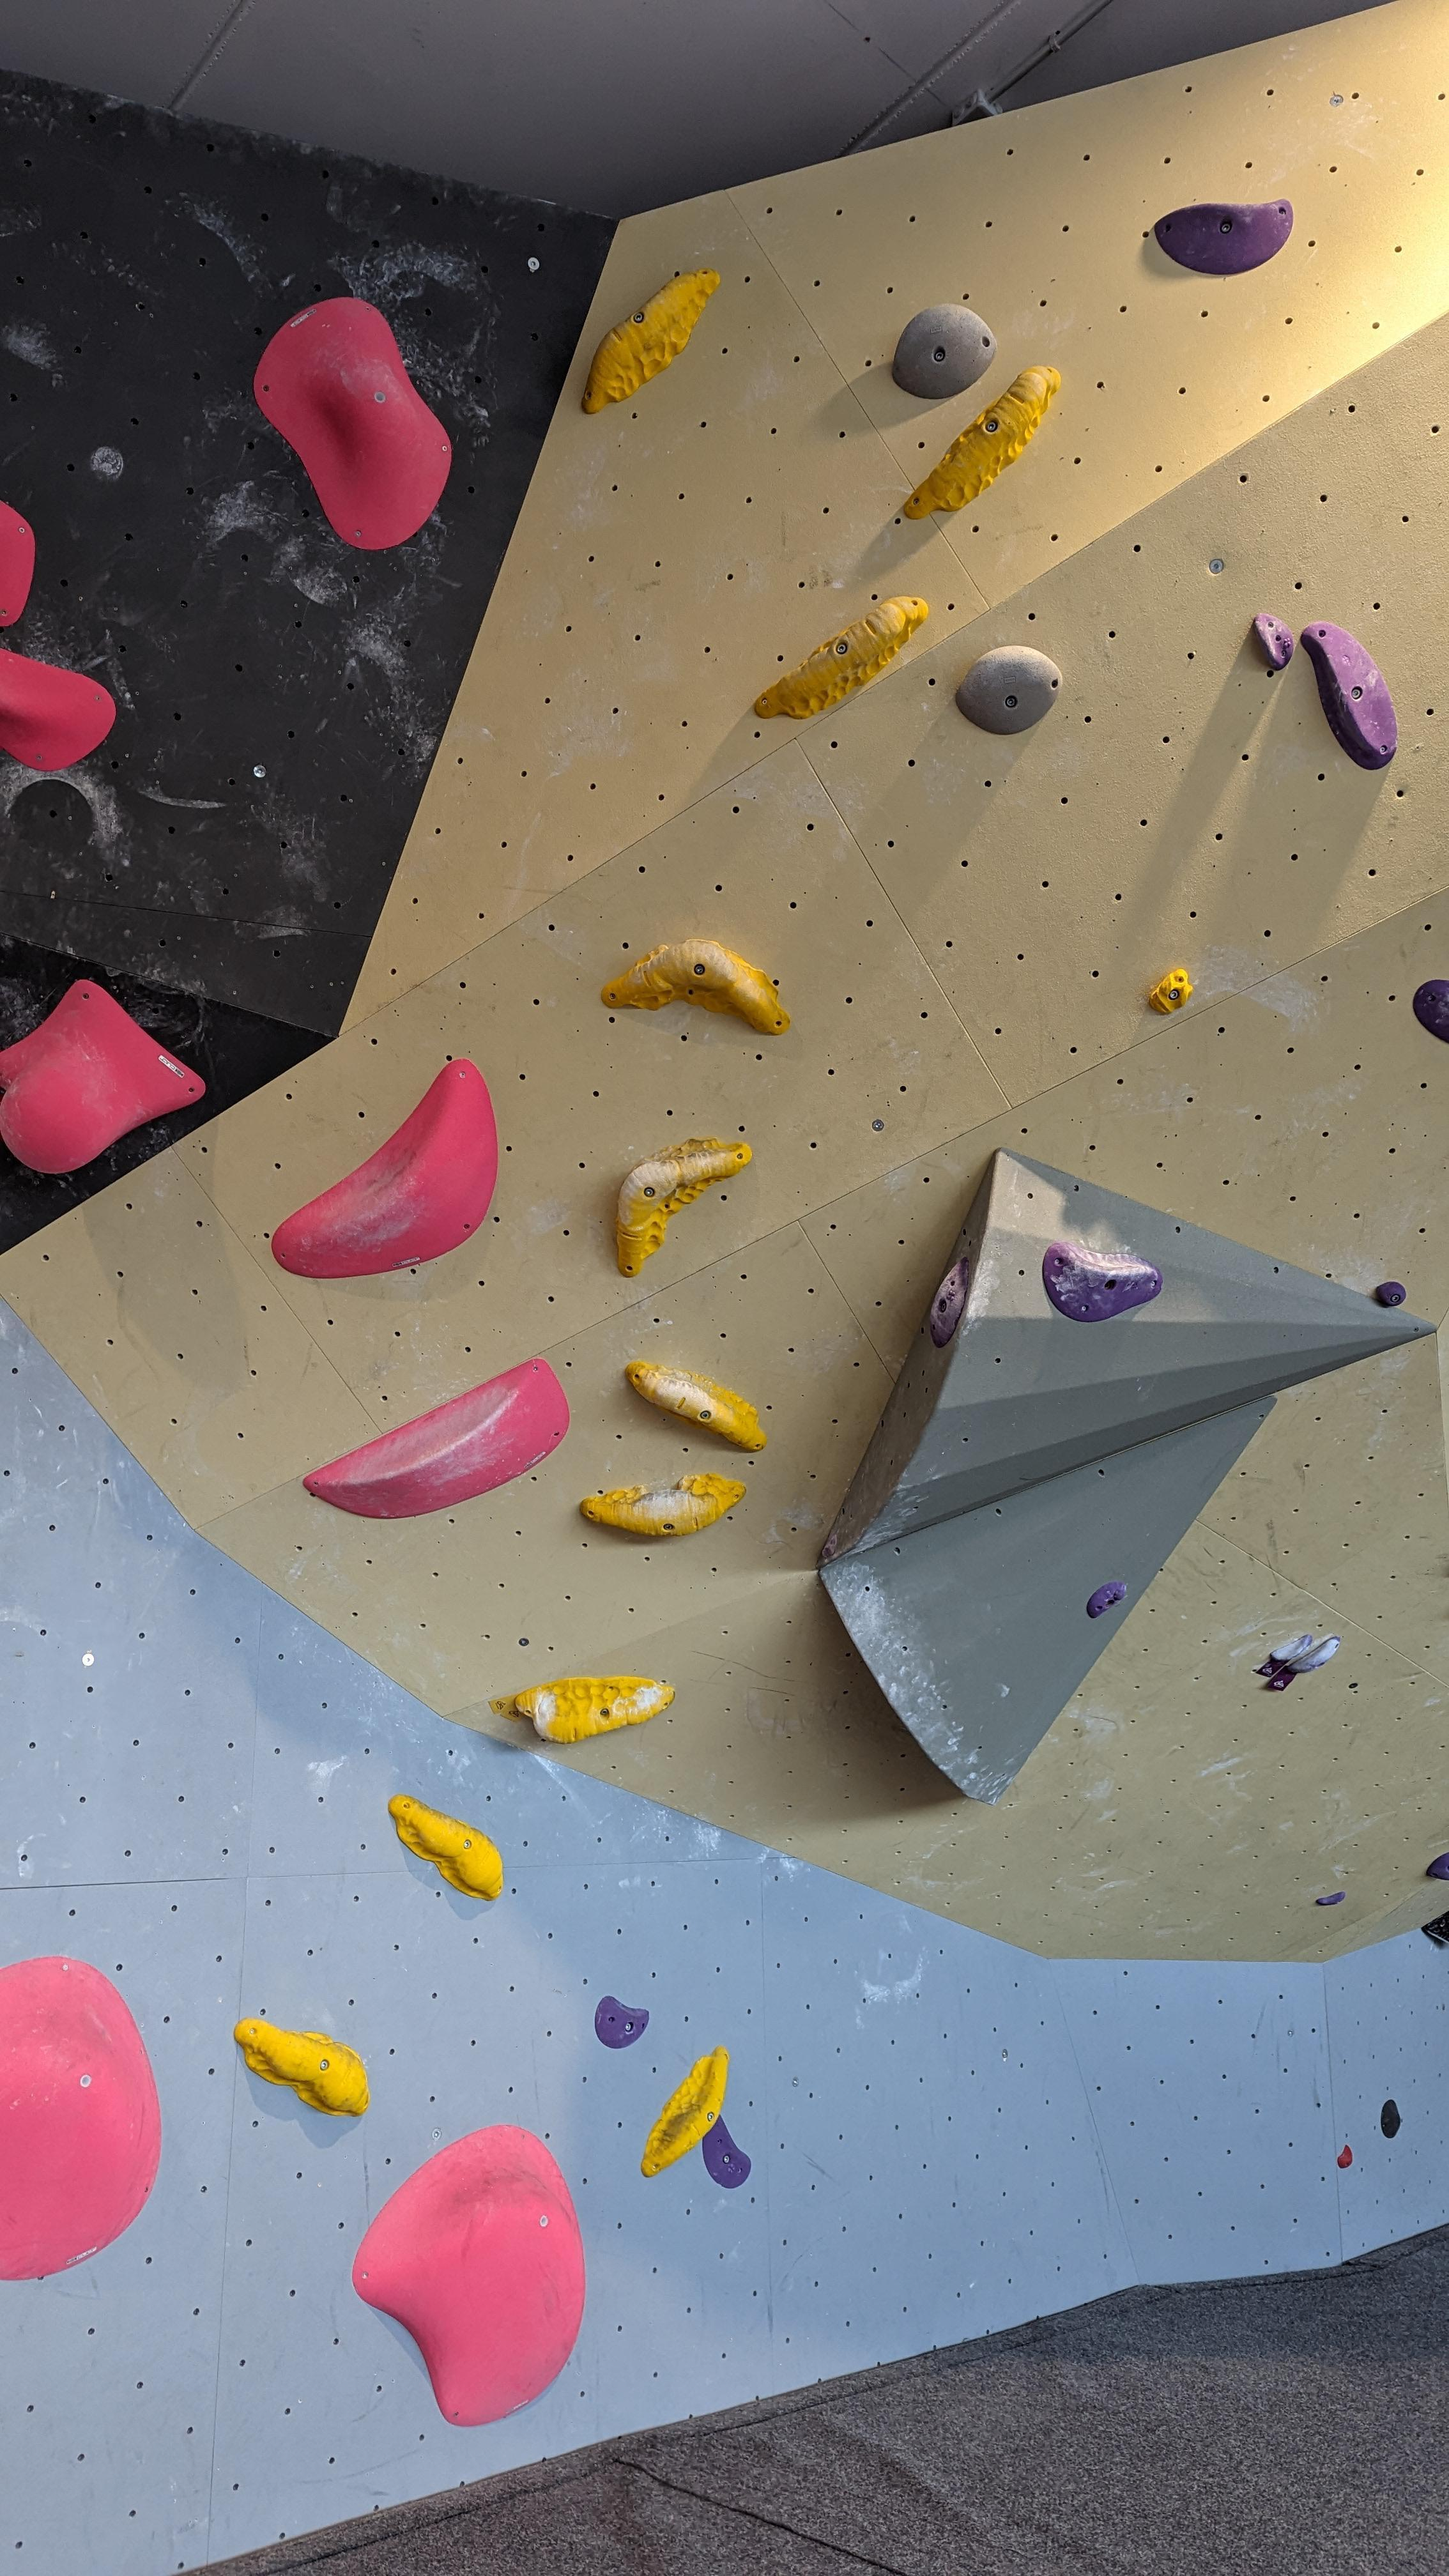hold: (816, 1146, 1437, 1569), (819, 1396, 1277, 1806), (352, 2125, 586, 2427), (0, 1957, 161, 2281), (253, 295, 451, 550), (271, 1058, 499, 1277), (303, 1359, 570, 1518), (0, 978, 207, 1173), (904, 366, 1062, 520), (754, 596, 929, 720), (582, 267, 722, 414), (616, 1136, 752, 1277), (600, 939, 791, 1035), (1300, 621, 1398, 771), (0, 648, 117, 771), (234, 2017, 370, 2116), (625, 1361, 768, 1453), (387, 1794, 504, 1902), (640, 2043, 731, 2178), (515, 1675, 676, 1744), (580, 1472, 747, 1537), (1154, 198, 1293, 274), (892, 303, 998, 398), (1042, 1240, 1162, 1322), (957, 644, 1062, 736), (0, 499, 35, 626), (929, 1256, 970, 1348), (702, 2114, 752, 2189), (594, 1996, 649, 2049), (1412, 980, 1449, 1044), (1253, 614, 1293, 671), (1288, 1637, 1341, 1674), (1150, 970, 1192, 1014), (1086, 1582, 1127, 1619), (1270, 1635, 1313, 1661), (1421, 1911, 1449, 1944), (1380, 2100, 1401, 2139), (1376, 1281, 1407, 1306), (1428, 1852, 1449, 1881), (1338, 2144, 1352, 2169), (1318, 1891, 1346, 1904), (823, 1534, 837, 1559)
